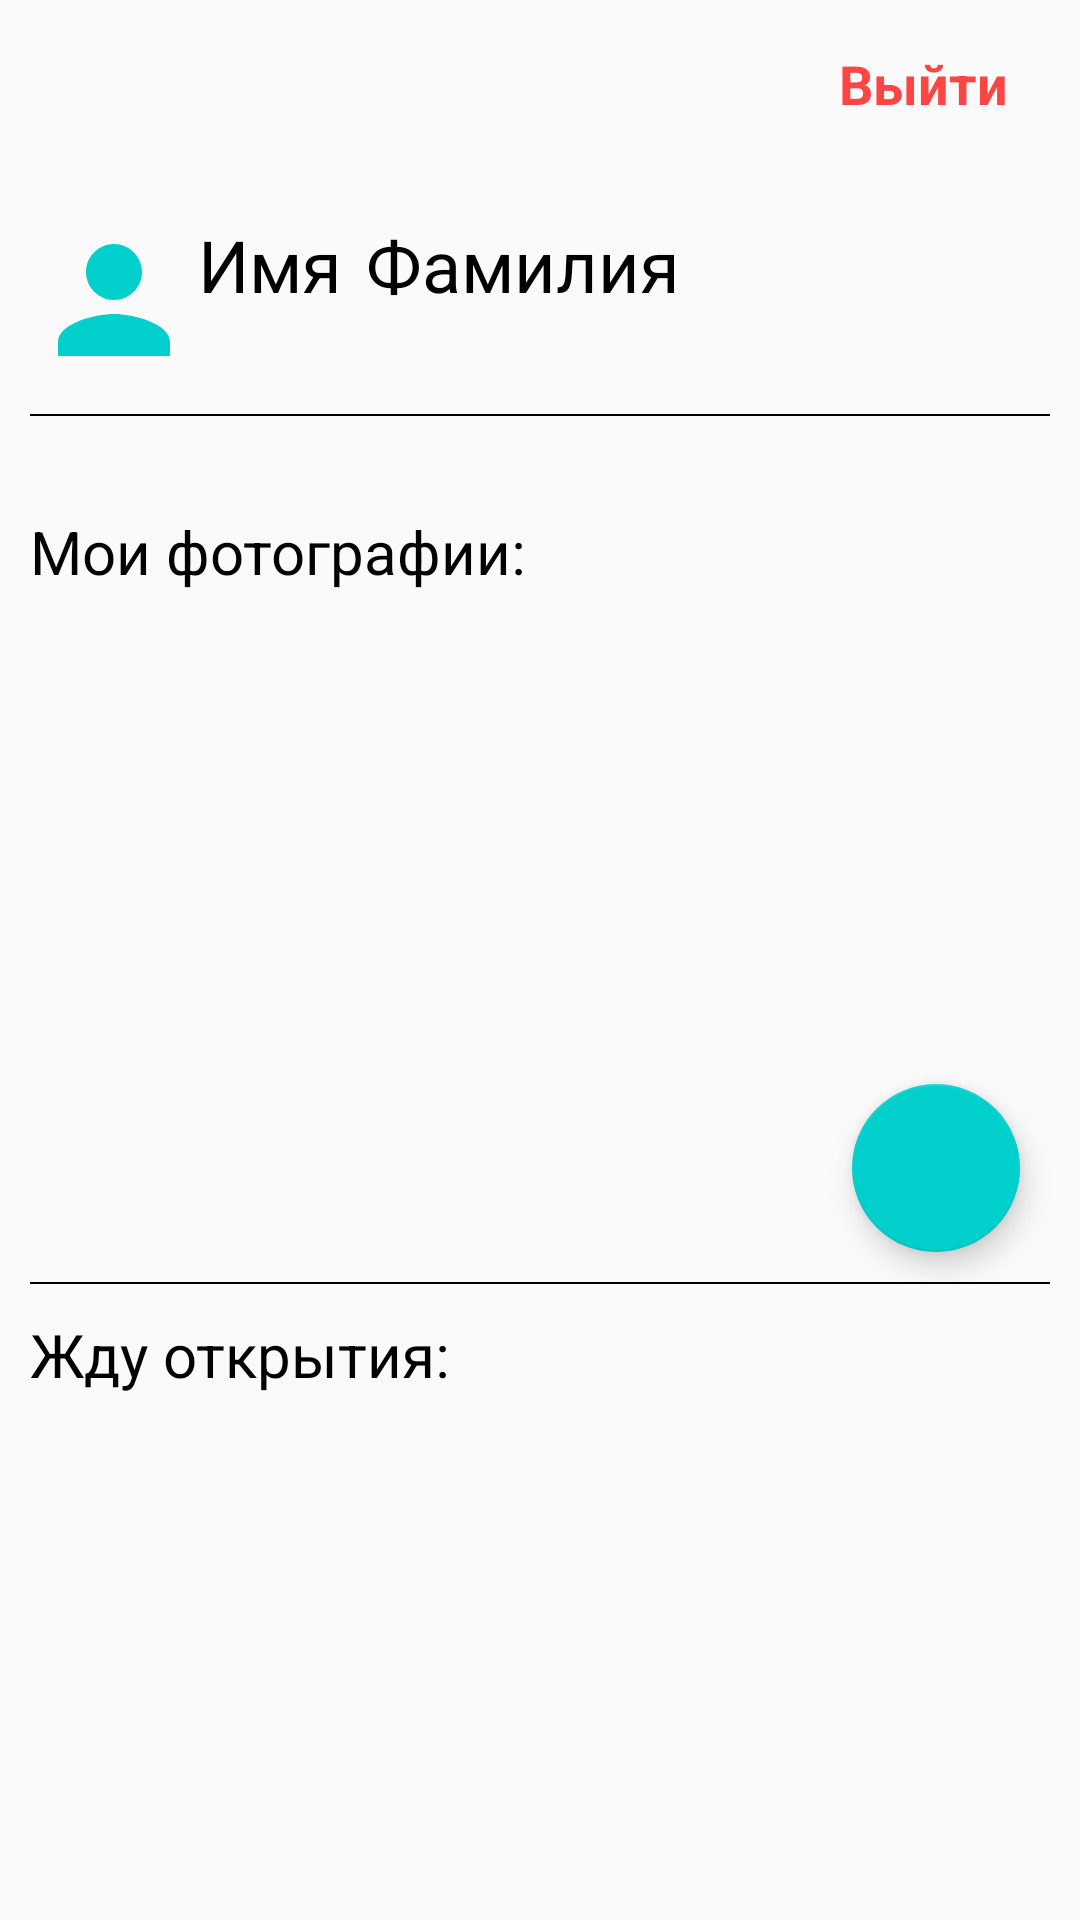

Icons on this 1080px x 1920px Android screen, each with the point to tap as (x,y):
person: (114,300)
